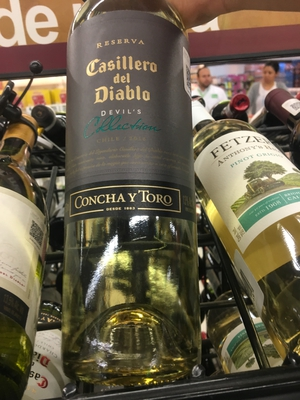casillero del diablo devils collection verde: (53, 6, 212, 370)
